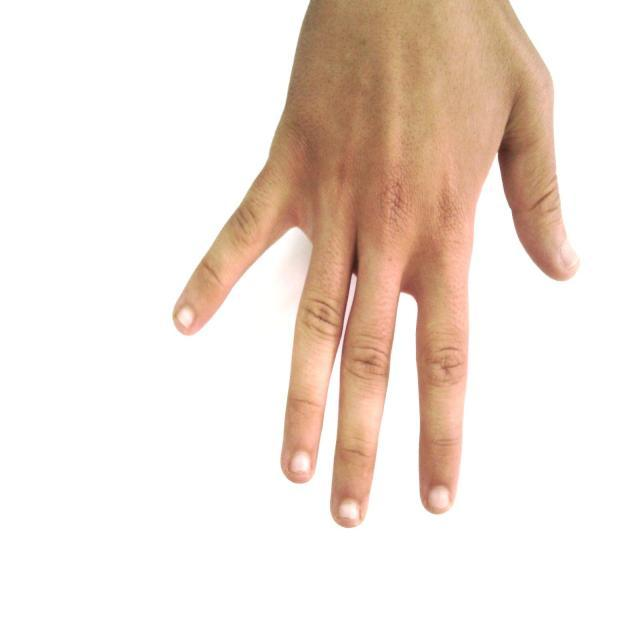Fingernail: (428, 486, 450, 511), (338, 500, 360, 523), (292, 452, 310, 473), (176, 307, 194, 328), (562, 244, 578, 267)
